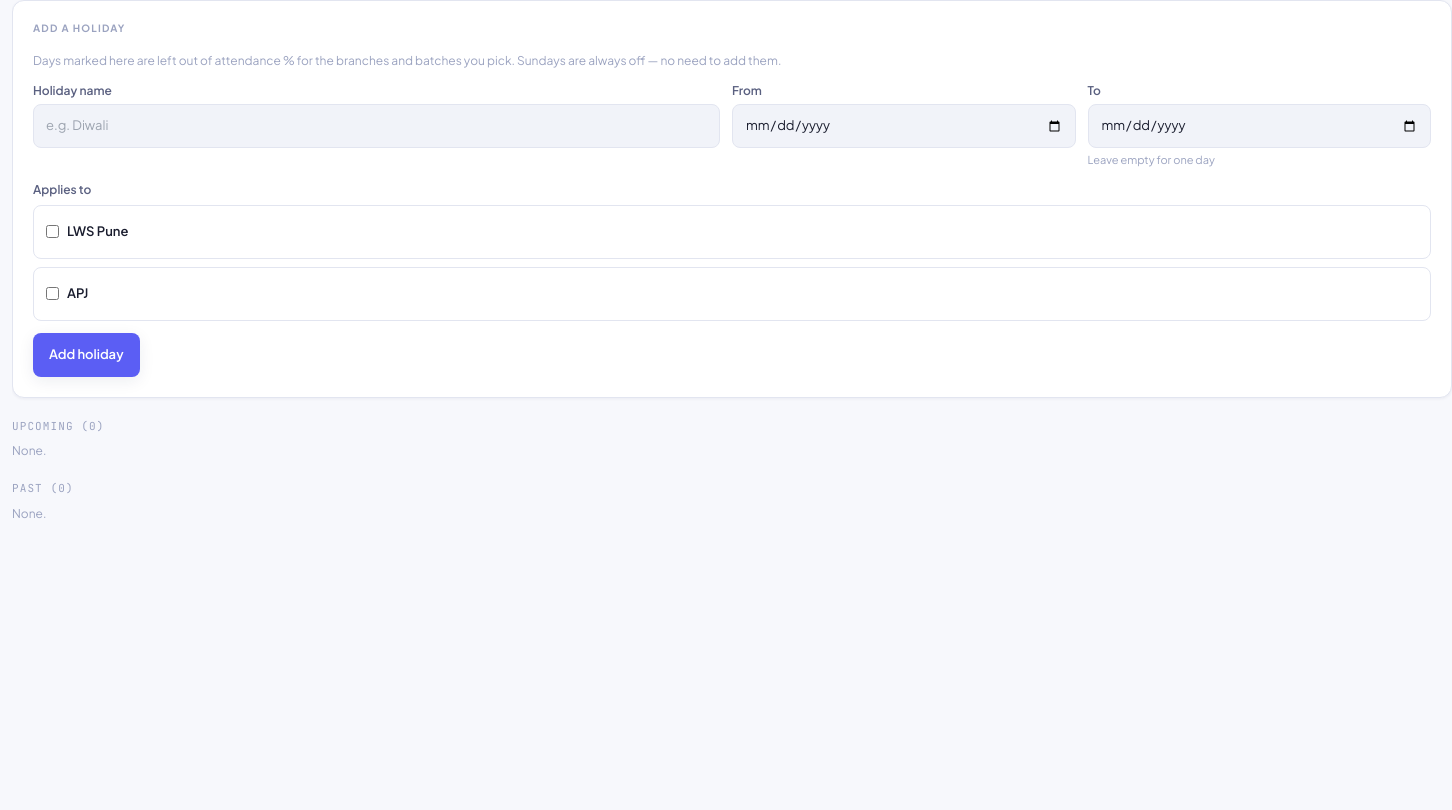
Test case: HolidaysTab › refuses "some batches" with none ticked, without saving
Type "X" into the field labelled "Holiday name" at (376, 126), box [33, 104, 720, 148]
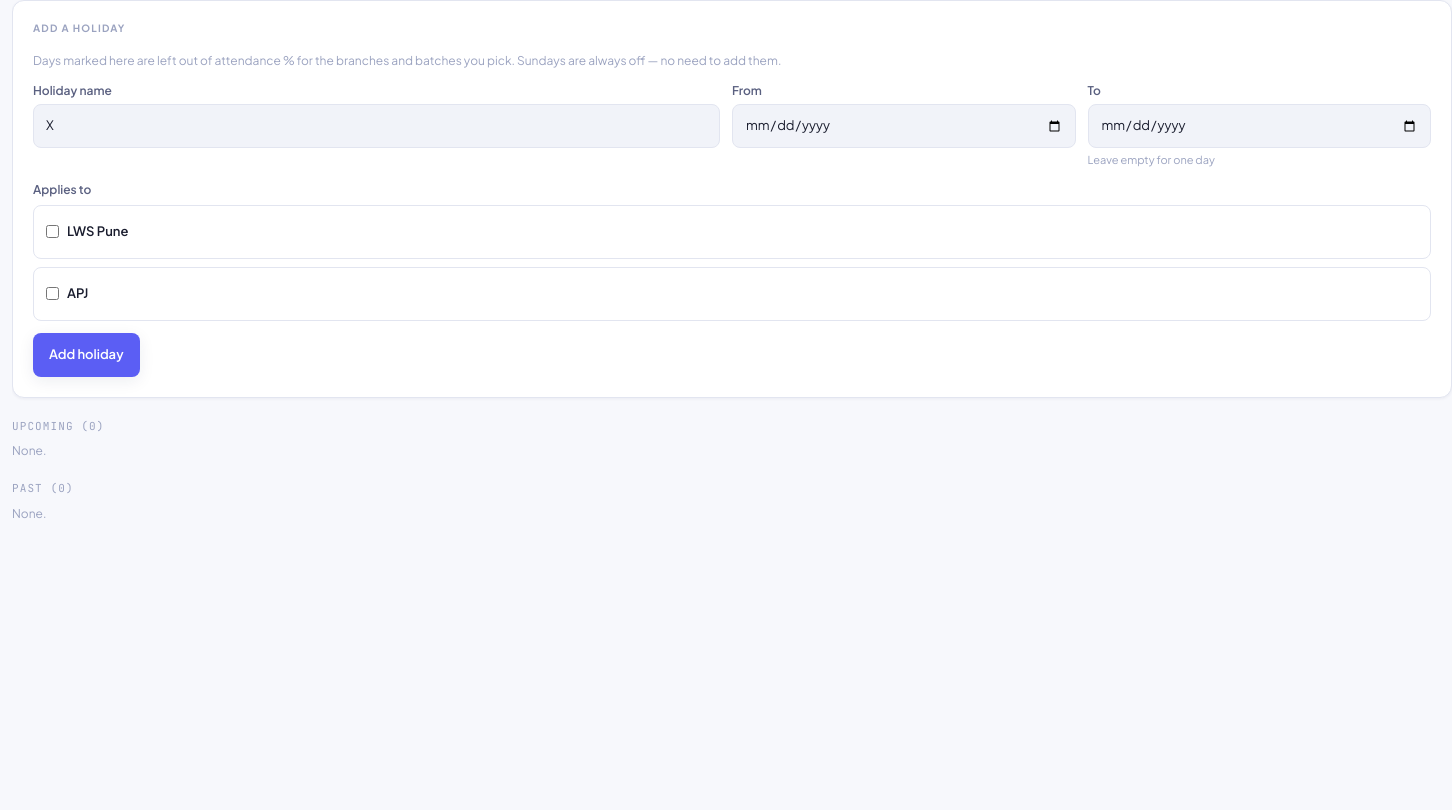
Type "2026-11-20" into the date field labelled "From" at (904, 126), box [732, 104, 1076, 148]
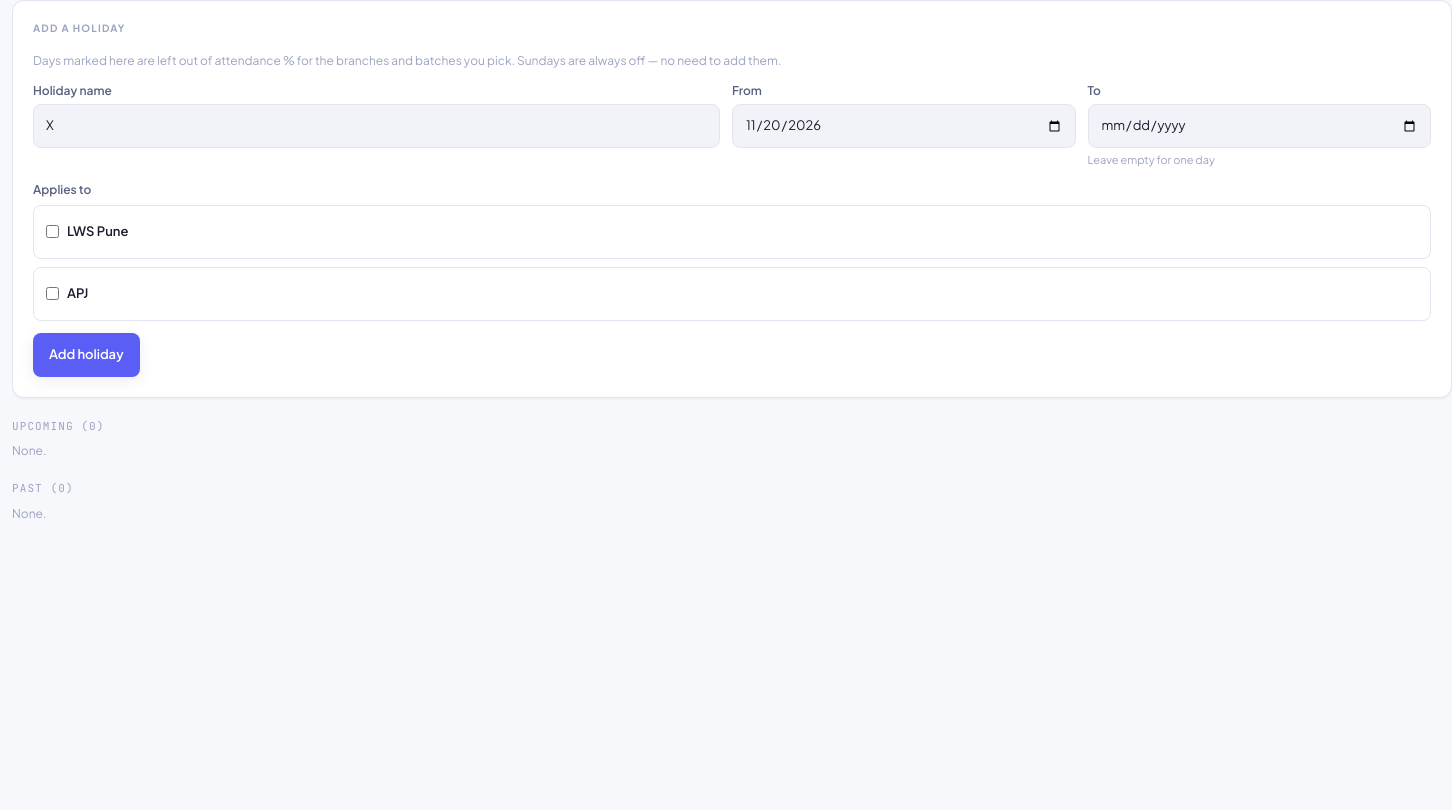
Click the checkbox labelled "APJ" at (52, 294), box [46, 287, 59, 300]
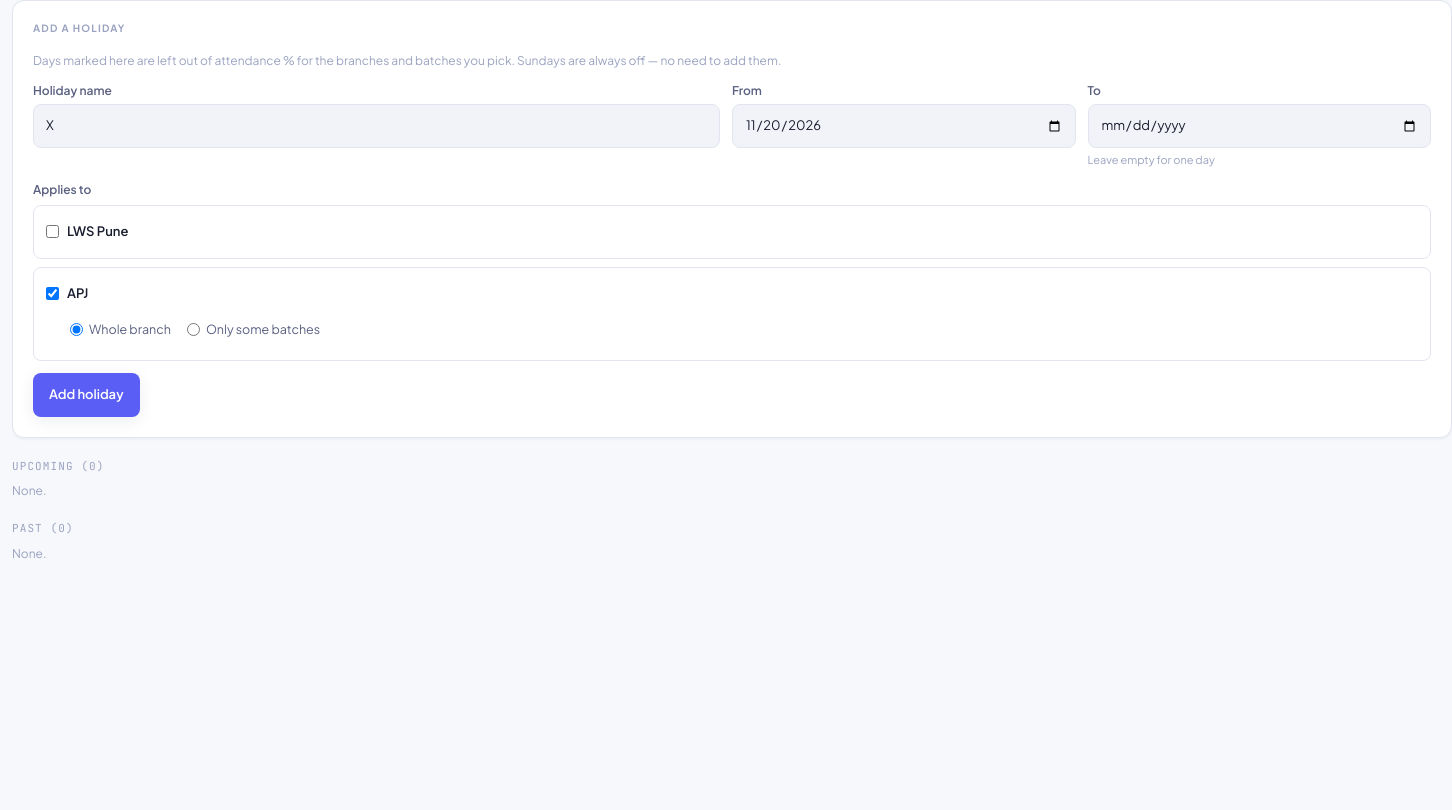
Click the radio button labelled "Only some batches" at (193, 330), box [187, 323, 200, 336]
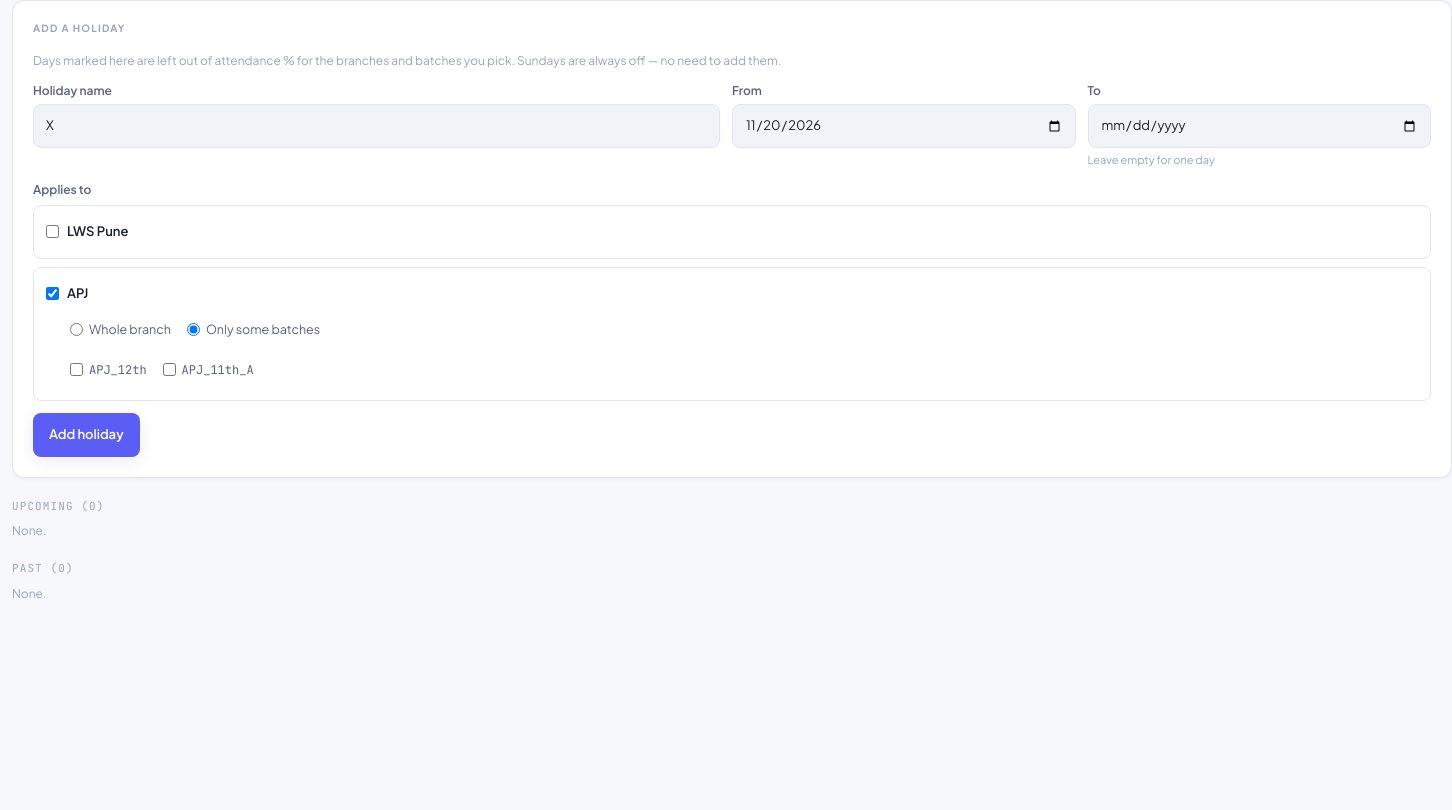
Click the button "Add holiday" at (86, 434), box [33, 412, 140, 456]
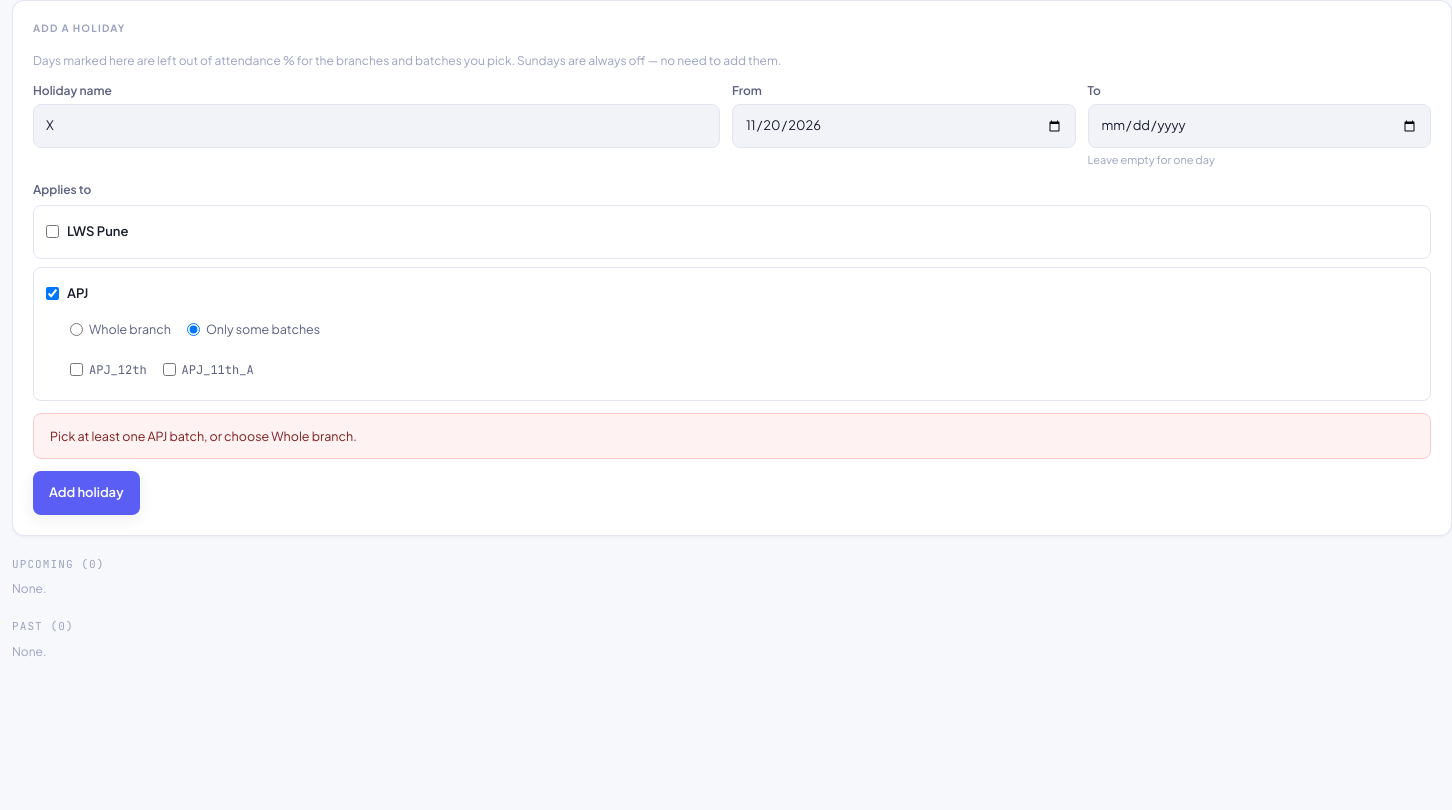
Result: the message shows "Pick at least one APJ batch" at [50, 428, 357, 444]
